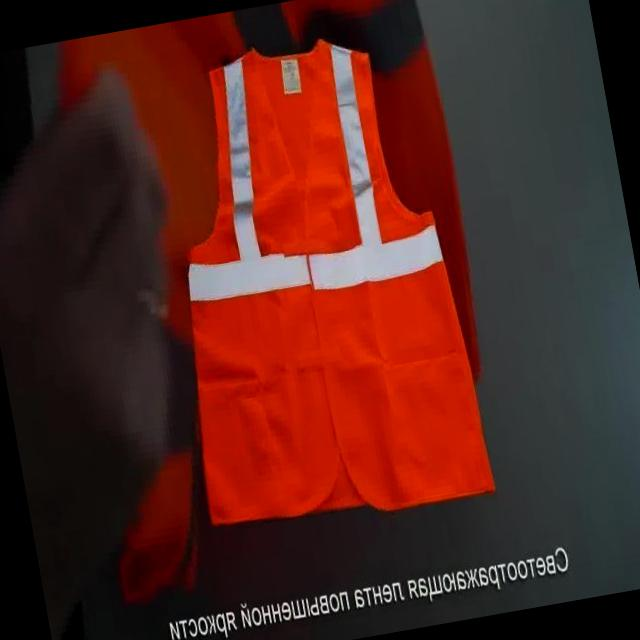vest: (128, 20, 498, 547)
